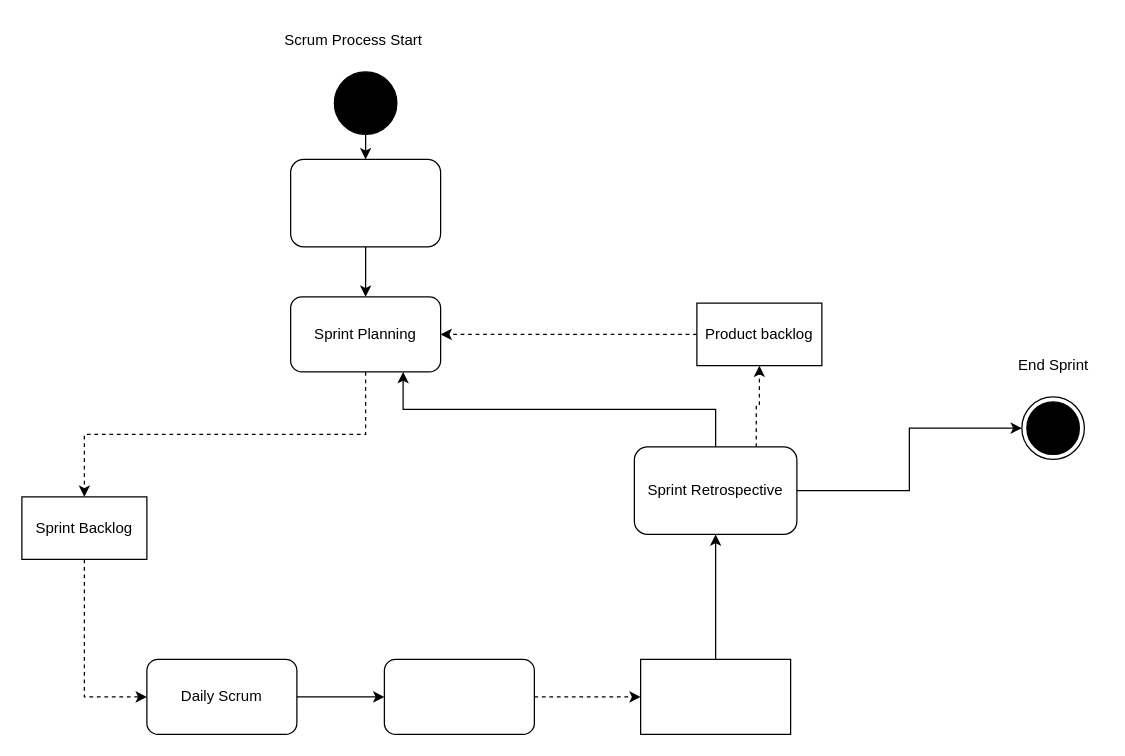
The diagram is 1125 pixels wide and 756 high, and some of its shapes have lost their labels. Each missing label, with the box of its shape:
Potentially Shippable Product Increment: (639, 658, 791, 734)
Project Kickoff Meeting: (289, 158, 441, 247)
Sprint Review: (383, 658, 534, 734)
